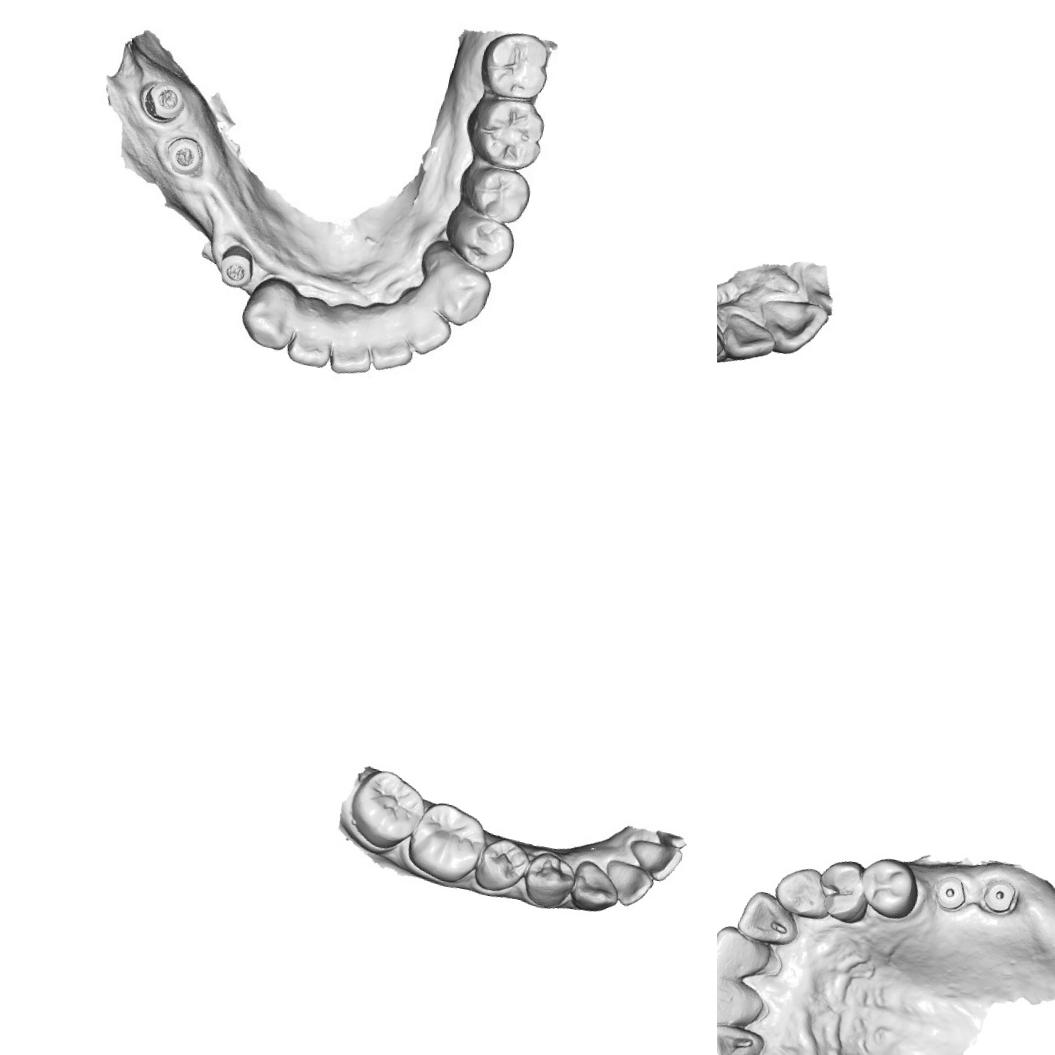canine: (412, 238, 497, 332), (234, 270, 304, 354), (767, 860, 837, 923), (568, 856, 624, 916), (717, 304, 730, 369)
implant: (133, 72, 190, 131), (158, 126, 210, 180), (212, 238, 260, 288), (927, 870, 972, 914), (978, 876, 1020, 917)
incisor: (752, 292, 832, 361), (732, 884, 805, 949), (283, 288, 339, 370), (394, 288, 458, 359), (363, 309, 419, 376), (717, 970, 771, 1037), (717, 310, 781, 366), (717, 921, 774, 983), (324, 318, 378, 380), (598, 856, 657, 911), (623, 836, 685, 885), (717, 1019, 768, 1055)
molar: (402, 796, 492, 888), (342, 764, 430, 856), (460, 89, 550, 171), (473, 23, 560, 104)
premolar: (853, 852, 925, 924), (810, 853, 875, 926), (446, 210, 518, 273), (462, 163, 530, 225), (518, 846, 580, 912), (471, 832, 532, 897)
